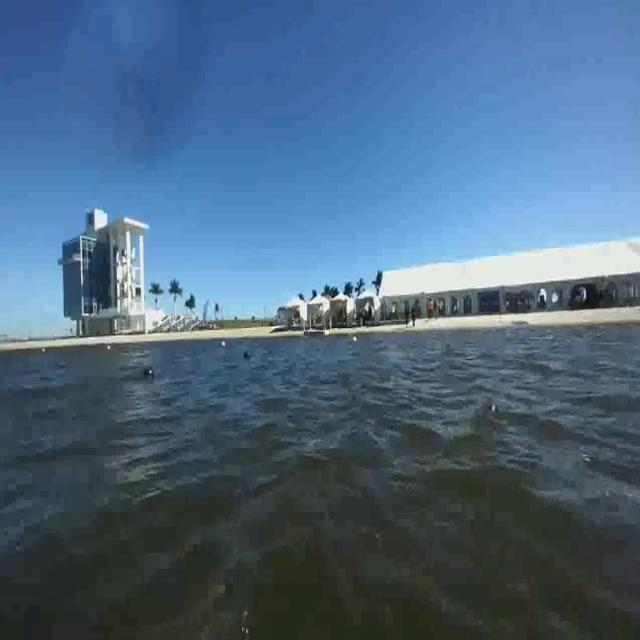black-buoy: (143, 364, 157, 379)
